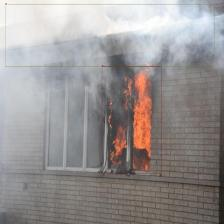fire: (102, 66, 161, 173)
smoke: (5, 4, 214, 67)
